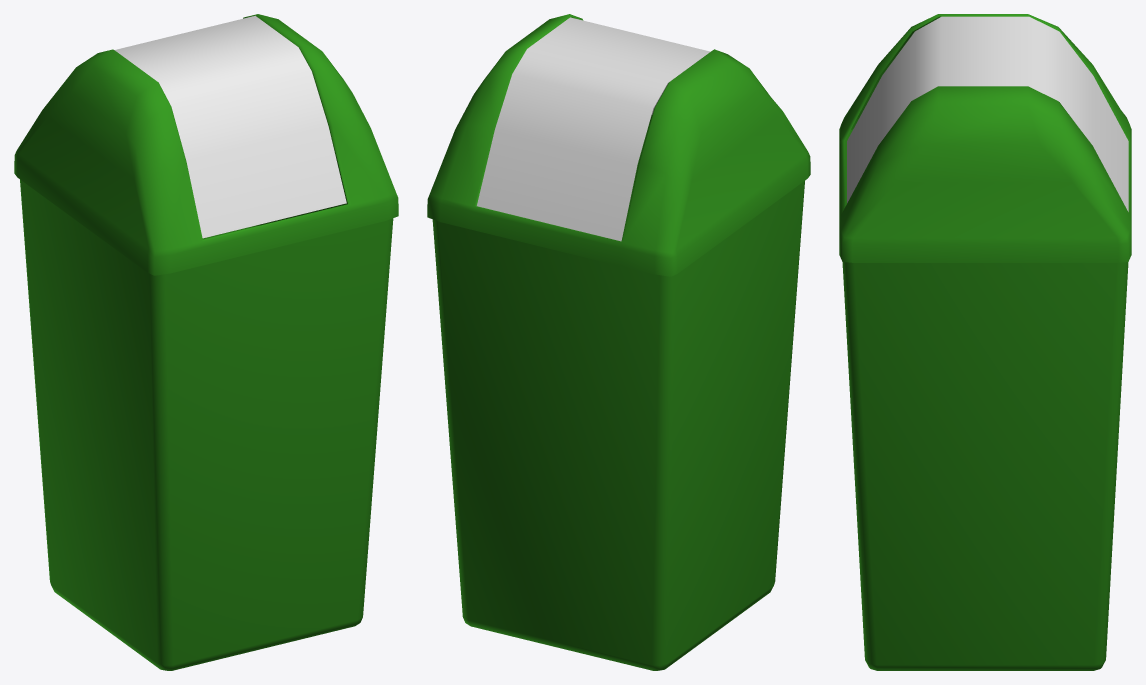
File: organik.fbx
3 renders of one model, left to right at view 1: azimuth 30°, elevation 25°; view 2: azimuth 150°, elevation 25°; view 3: azimuth 270°, elevation 25°, orthographic. The views are drawn at different scales.
Parts seen in each view (by area): view 1: Trashcan_01_body, Trashcan_01_cover, Trashcan_01_lid; view 2: Trashcan_01_body, Trashcan_01_cover, Trashcan_01_lid; view 3: Trashcan_01_body, Trashcan_01_cover, Trashcan_01_lid.
Part boxes in pixels (x1,y1,x2,y2): Trashcan_01_body: (20,160,393,670); Trashcan_01_cover: (14,14,398,275); Trashcan_01_lid: (114,15,346,238); Trashcan_01_body: (432,124,804,670); Trashcan_01_cover: (427,14,810,276); Trashcan_01_lid: (477,17,710,241); Trashcan_01_body: (842,129,1128,670); Trashcan_01_cover: (839,14,1131,262); Trashcan_01_lid: (847,16,1128,211).
Size of the model in its own units: 24.4 by 52.88 by 24.4.
